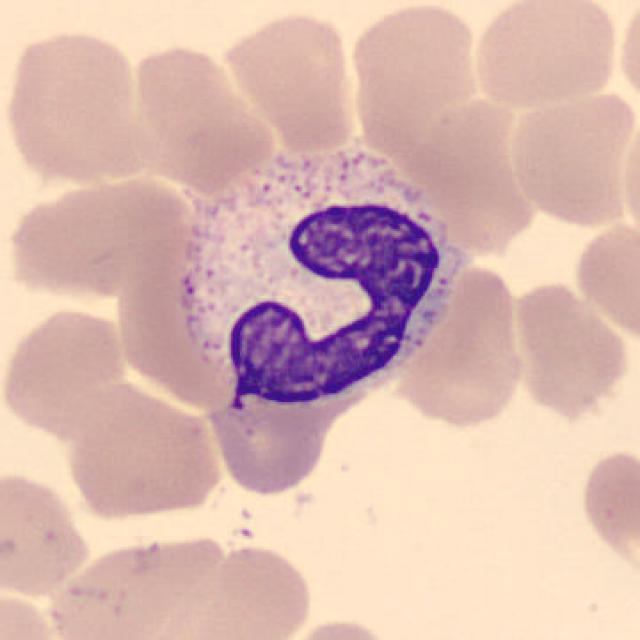Neutrophil: (169, 144, 467, 409)
RBC: (2, 173, 201, 303), (0, 25, 156, 187), (60, 378, 226, 526), (393, 261, 528, 430), (128, 39, 277, 192), (121, 534, 316, 640), (219, 7, 359, 150), (505, 85, 636, 229), (45, 534, 218, 640), (0, 302, 132, 438), (508, 277, 634, 418), (468, 0, 622, 111), (204, 365, 330, 497), (345, 0, 483, 115), (0, 465, 92, 601), (569, 215, 638, 344), (576, 444, 638, 580), (0, 585, 68, 640), (275, 613, 398, 640), (618, 102, 640, 239), (615, 0, 640, 111)
